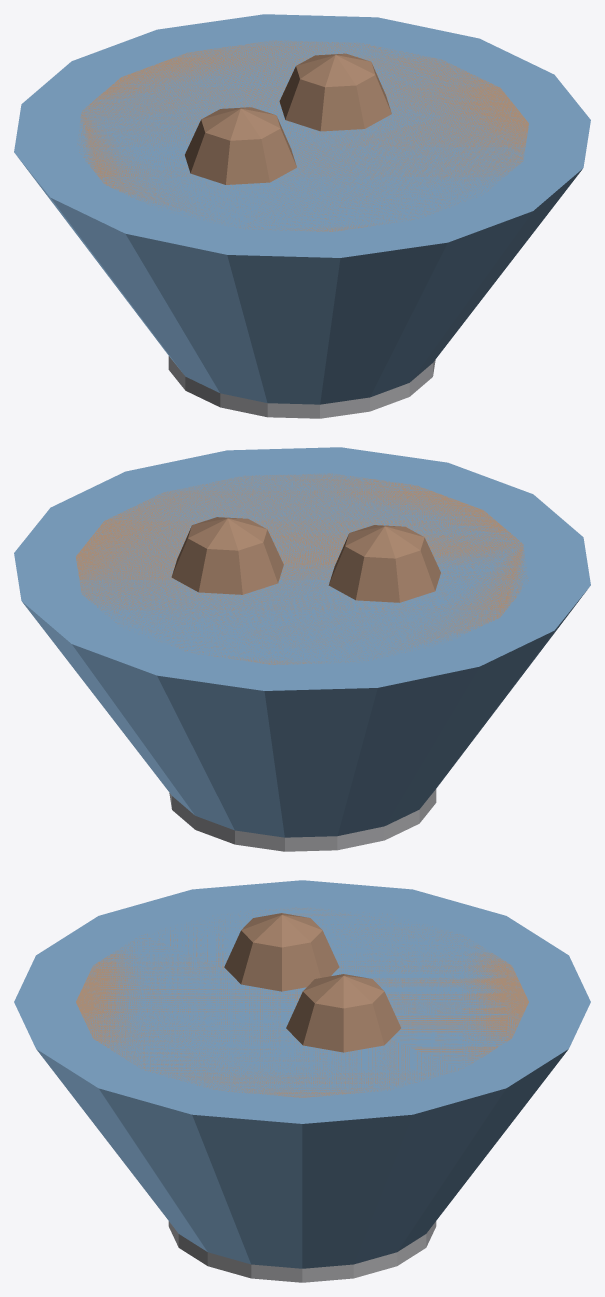
The model's file is pets_tigela.glb.
3 renders of one model, top to bottom at view 1: azimuth 30°, elevation 25°; view 2: azimuth 150°, elevation 25°; view 3: azimuth 270°, elevation 25°, orthographic.
Visible parts, largest first — view 1: PETS_TIGELA_v01; view 2: PETS_TIGELA_v01; view 3: PETS_TIGELA_v01.
Part boxes in pixels (<box>): PETS_TIGELA_v01: <box>14,14,590,418</box>; PETS_TIGELA_v01: <box>14,447,590,851</box>; PETS_TIGELA_v01: <box>14,880,590,1282</box>.
Bounding box in the file's own units: 0.28 × 0.148 × 0.28.
